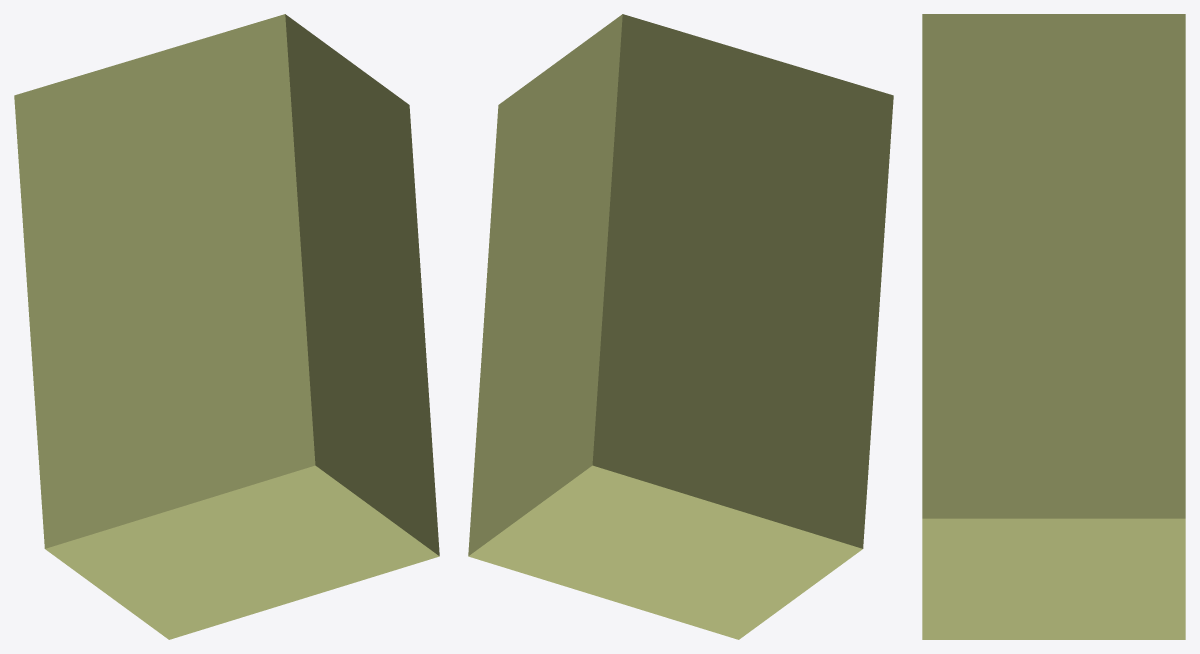
3 views of the same model, side by side, from view 1: azimuth 30°, elevation 25°; view 2: azimuth 150°, elevation 25°; view 3: azimuth 270°, elevation 25° (orthographic). The views are drawn at different scales.
Parts seen in each view (by area): view 1: 0_1_2_0_0_2_3_2_2_2; view 2: 0_1_2_0_0_2_3_2_2_2; view 3: 0_1_2_0_0_2_3_2_2_2.
Part boxes in pixels (left/top/right/bottom): 0_1_2_0_0_2_3_2_2_2: left=14, top=14, right=439, bottom=639; 0_1_2_0_0_2_3_2_2_2: left=468, top=14, right=893, bottom=639; 0_1_2_0_0_2_3_2_2_2: left=922, top=14, right=1185, bottom=639.
Bounding box in the file's own units: 8.39 × 12.68 × 6.
